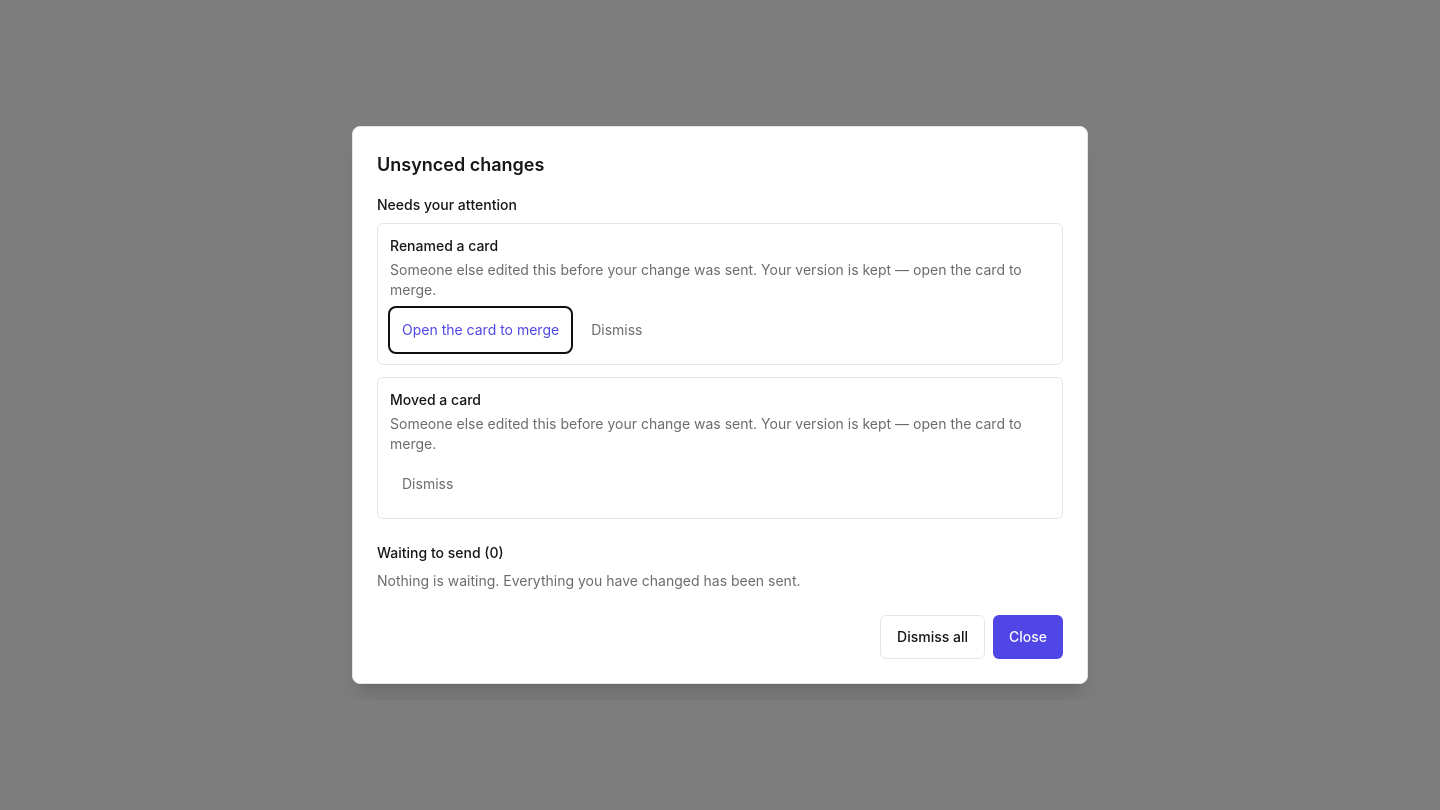
it: UnsyncedChangesPanel › dismisses only the issue whose button was pressed
The width and height of the screenshot is (1440, 810).
Step 1. Click the button "Dismiss" below "Renamed a card" → click(617, 330), box [579,308,654,352]
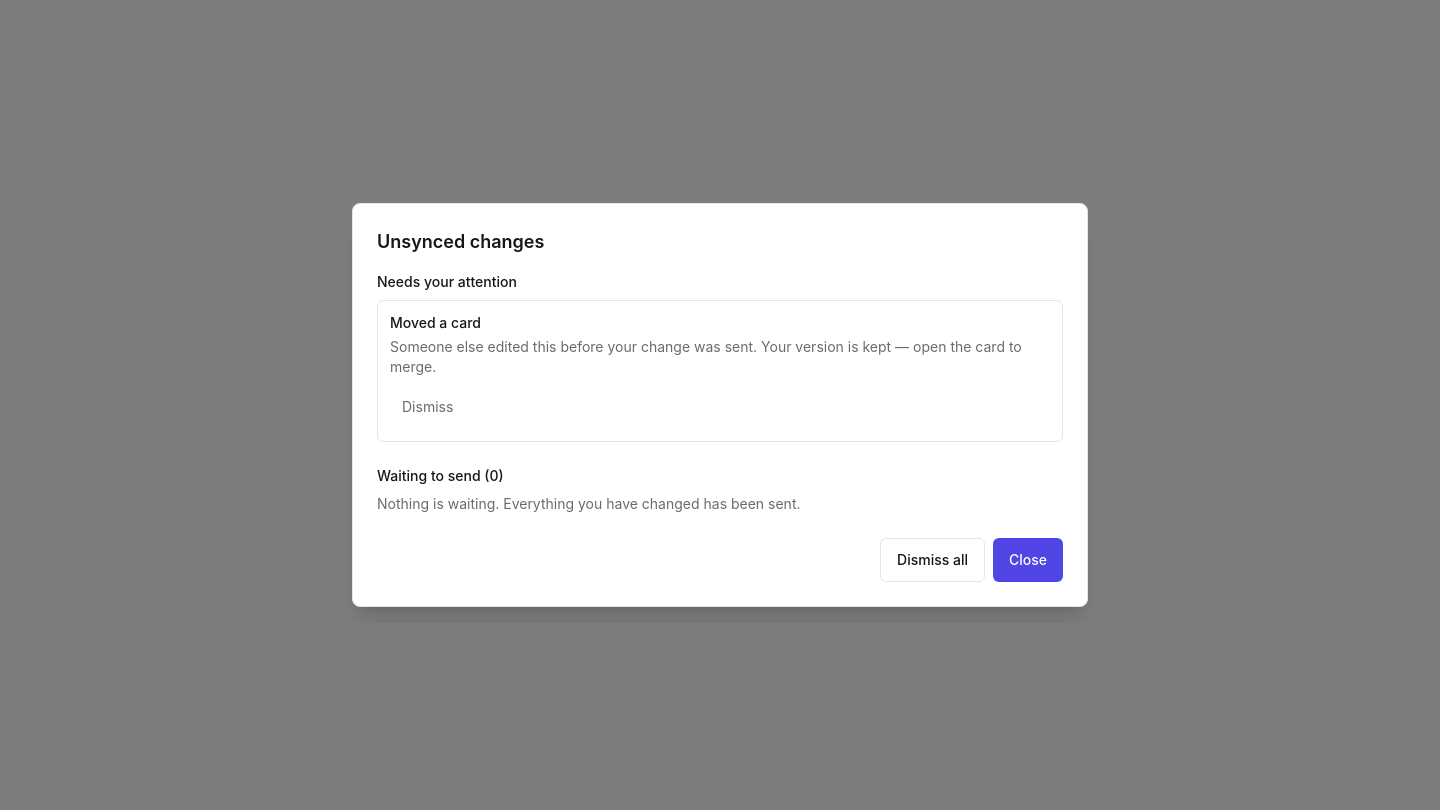
Expected: the text "Moved a card" is shown, [390,314,481,331]
Result: the number of list items with test id "outbox-issue" is 1 at [377,300,1063,442]
Result: the text "Renamed a card" is gone
